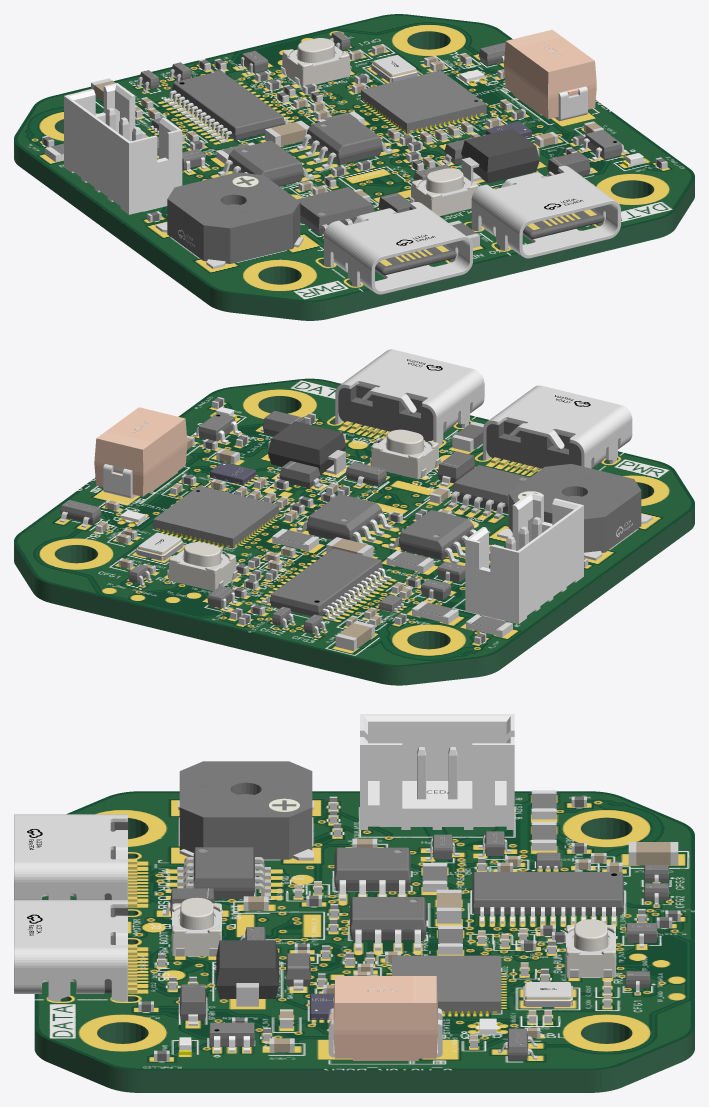
File: rp2040-motor-controller.glb
3 renders of one model, top to bottom at view 1: azimuth 30°, elevation 25°; view 2: azimuth 150°, elevation 25°; view 3: azimuth 270°, elevation 25°, orthographic. The views are drawn at different scales.
Parts seen in each view (by area): view 1: Box0, J1, BZ1, J_USB, J_MOTOR_USB, C_MOTOR_BULK, DRIVER, U1, D_MOTOR_TVS, U_CURRENT_A, SW_RUN, U_CURRENT_B (+9 smaller); view 2: Box0, J1, J_USB, J_MOTOR_USB, BZ1, C_MOTOR_BULK, DRIVER, U1, D_MOTOR_TVS, U_CURRENT_A, U_CURRENT_B, SW_RUN (+17 smaller); view 3: Box0, J1, BZ1, J_USB, J_MOTOR_USB, C_MOTOR_BULK, DRIVER, U1, U_PD, D_MOTOR_TVS, U_CURRENT_A, U_CURRENT_B (+18 smaller).
Part boxes in pixels (x1,y1,x2,y2): Box0: (14, 14, 694, 320); J1: (64, 83, 182, 214); BZ1: (155, 172, 303, 268); J_USB: (471, 165, 620, 258); J_MOTOR_USB: (324, 202, 472, 294); C_MOTOR_BULK: (504, 29, 596, 121); DRIVER: (163, 71, 291, 142); U1: (361, 70, 486, 133); D_MOTOR_TVS: (461, 128, 539, 183); U_CURRENT_A: (296, 115, 392, 168); SW_RUN: (280, 38, 351, 86); U_CURRENT_B: (218, 140, 313, 186); Box0: (14, 378, 694, 685); J1: (465, 492, 583, 623); J_USB: (335, 349, 484, 445); J_MOTOR_USB: (483, 385, 632, 472); BZ1: (497, 464, 652, 560); C_MOTOR_BULK: (94, 407, 187, 498); DRIVER: (261, 548, 391, 620); U1: (153, 485, 278, 548); D_MOTOR_TVS: (268, 421, 346, 474); U_CURRENT_A: (296, 494, 392, 544); U_CURRENT_B: (388, 510, 476, 563); SW_RUN: (167, 542, 237, 590); Box0: (34, 791, 694, 1092); J1: (360, 714, 514, 829); BZ1: (178, 761, 313, 860); J_USB: (14, 900, 137, 1001); J_MOTOR_USB: (14, 814, 137, 907); C_MOTOR_BULK: (328, 976, 442, 1060); DRIVER: (472, 872, 623, 923); U1: (392, 955, 501, 1013); U_PD: (177, 847, 270, 898); D_MOTOR_TVS: (216, 940, 278, 1006); U_CURRENT_A: (350, 897, 426, 950); U_CURRENT_B: (334, 847, 410, 900).
Size of the model in its own units: 42.3 by 9 by 43.64.
38 materials, 2 textured.
